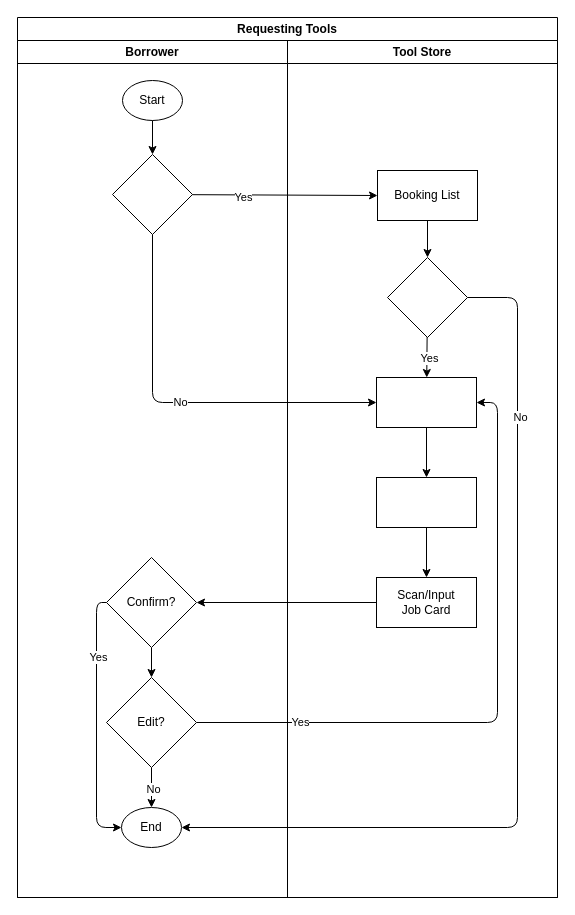
The diagram is 575 pixels wide and 915 high, and some of its shapes have lost their labels. The shapes that lost their labels are listed below. From the top down, each one's centre as x and y in pixels, then its label:
At (152,194): "Booking?".
At (427,297): "Continue?".
At (426,402): "Scan Barcode/Select Tools".
At (426,502): "Scan/Input ID Card".
